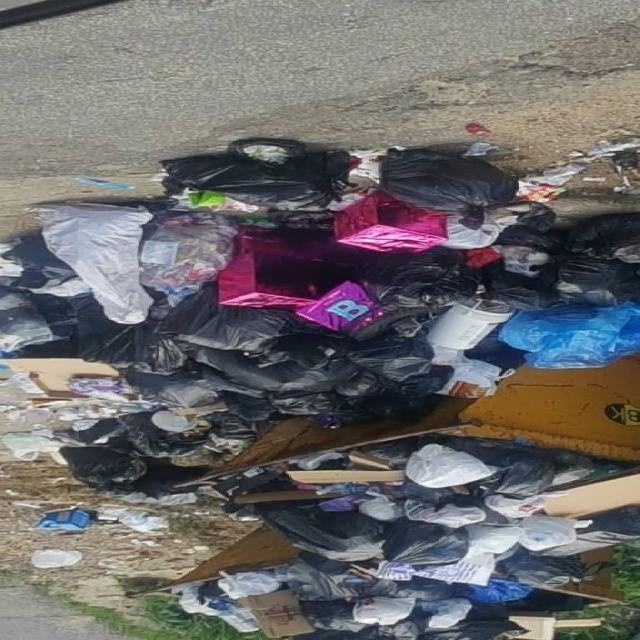Garbage: (2, 139, 640, 640)
Plastic_Bag: (31, 205, 153, 324), (218, 228, 360, 309), (162, 153, 349, 211), (380, 150, 516, 229), (158, 284, 302, 351), (500, 302, 640, 368), (140, 212, 238, 298), (80, 302, 187, 375), (434, 437, 558, 499), (256, 501, 382, 561), (62, 448, 202, 502), (360, 247, 478, 309), (196, 347, 358, 391), (336, 191, 447, 252), (122, 363, 267, 408), (311, 390, 438, 429), (556, 252, 640, 306), (427, 298, 513, 350), (347, 331, 433, 381), (118, 412, 207, 458), (373, 553, 496, 586), (407, 444, 498, 488), (382, 519, 469, 565), (496, 549, 598, 588), (2, 236, 76, 289), (60, 447, 147, 492), (564, 214, 640, 264), (421, 603, 522, 640), (480, 452, 556, 499), (438, 354, 513, 398), (276, 559, 353, 601), (489, 272, 560, 311), (273, 333, 342, 369), (404, 499, 487, 528), (0, 308, 53, 352), (484, 491, 567, 518), (387, 365, 453, 398), (440, 216, 504, 250), (300, 600, 367, 632), (520, 514, 576, 551), (464, 526, 524, 558), (218, 571, 282, 599), (353, 597, 416, 625), (220, 391, 276, 421), (467, 579, 533, 604), (380, 608, 431, 640), (358, 438, 418, 465), (420, 598, 471, 629), (69, 377, 129, 402), (272, 392, 336, 415), (396, 577, 453, 601), (400, 479, 453, 504), (358, 495, 404, 521), (336, 371, 380, 396), (198, 582, 236, 610), (327, 300, 369, 321), (378, 620, 422, 640)
Plastic_bottle: (218, 604, 260, 632)
Thermocol: (509, 613, 602, 640)
